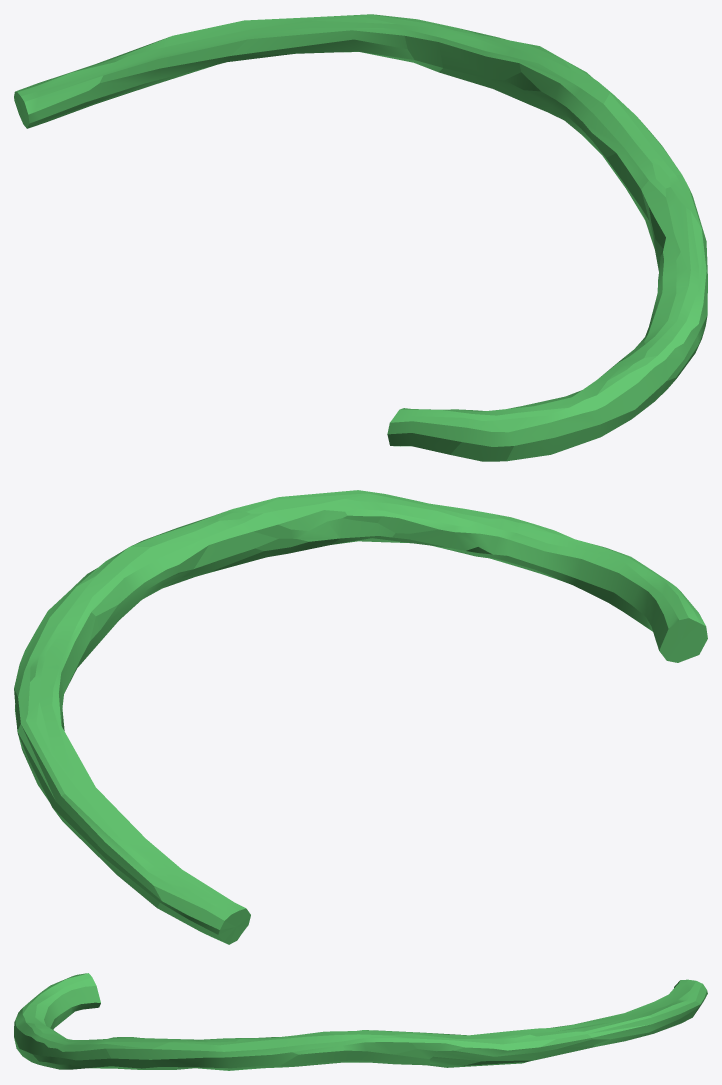
File: jungle_trunk_ground_F.fbx
The picture shows the model from 3 angles, top to bottom: view 1: azimuth 30°, elevation 25°; view 2: azimuth 150°, elevation 25°; view 3: azimuth 270°, elevation 25°; orthographic projection. The views are drawn at different scales.
Parts seen in each view (by area): view 1: jungle_trunk_ground_F; view 2: jungle_trunk_ground_F; view 3: jungle_trunk_ground_F.
Boxes of the visible parts, x1,y1,x2,y2 form: jungle_trunk_ground_F: (14, 14, 707, 461); jungle_trunk_ground_F: (14, 490, 707, 944); jungle_trunk_ground_F: (14, 973, 707, 1070).
Bounding box in the file's own units: 493 × 165 × 992.
